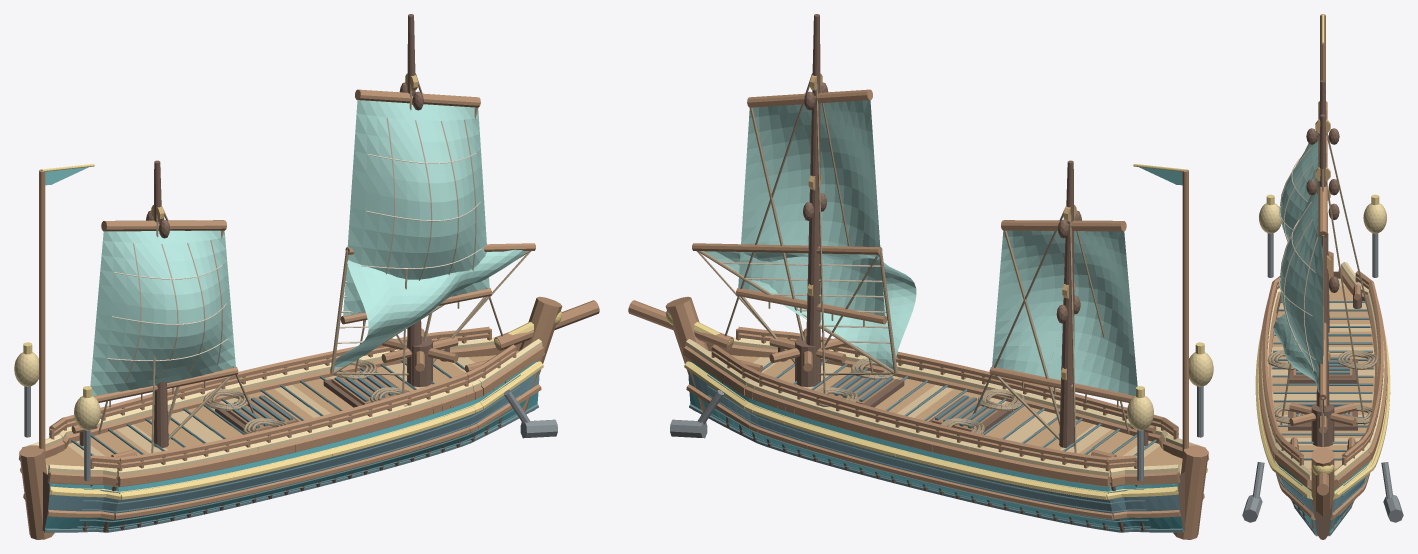
The model's file is mist_seeker-v5.glb.
3 renders of one model, left to right at view 1: azimuth 30°, elevation 25°; view 2: azimuth 150°, elevation 25°; view 3: azimuth 270°, elevation 25°, orthographic. The views are drawn at different scales.
Parts seen in each view (by area): view 1: mist_seeker_sails_mint, mist_seeker_hull_hull2, mist_seeker_railings_hull2, mist_seeker_hull_ghostdark, mist_seeker_hull_pale, mist_seeker_hull_teal, mist_seeker_hull_blue, mist_seeker_hull_wood, mist_seeker_hull_gold, mist_seeker_rigging_hull2, mist_seeker_rigging_sailshade, mist_seeker_masts_darkwood (+11 smaller); view 2: mist_seeker_sails_mint, mist_seeker_hull_hull2, mist_seeker_railings_hull2, mist_seeker_hull_ghostdark, mist_seeker_masts_darkwood, mist_seeker_rigging_hull2, mist_seeker_hull_pale, mist_seeker_hull_teal, mist_seeker_hull_blue, mist_seeker_hull_wood, mist_seeker_hull_gold, mist_seeker_rigging_rope (+12 smaller); view 3: mist_seeker_sails_mint, mist_seeker_hull_hull2, mist_seeker_hull_wood, mist_seeker_railings_hull2, mist_seeker_hull_ghostdark, mist_seeker_masts_darkwood, mist_seeker_fittings_iron, mist_seeker_hull_gold, mist_seeker_hull_decklight, mist_seeker_hull_pale, mist_seeker_fittings_darkwood, mist_seeker_fittings_hull2 (+13 smaller).
Boxes of the visible parts, x1,y1,x2,y2 form: mist_seeker_sails_mint: (90, 100, 526, 396); mist_seeker_hull_hull2: (19, 296, 599, 539); mist_seeker_railings_hull2: (49, 326, 516, 480); mist_seeker_hull_ghostdark: (44, 360, 538, 532); mist_seeker_hull_pale: (22, 337, 542, 476); mist_seeker_hull_teal: (45, 360, 538, 529); mist_seeker_hull_blue: (48, 370, 539, 514); mist_seeker_hull_wood: (45, 355, 496, 467); mist_seeker_hull_gold: (20, 361, 543, 499); mist_seeker_rigging_hull2: (93, 89, 535, 402); mist_seeker_rigging_sailshade: (107, 117, 481, 383); mist_seeker_masts_darkwood: (146, 14, 423, 447); mist_seeker_sails_mint: (704, 100, 1137, 396); mist_seeker_hull_hull2: (628, 296, 1208, 539); mist_seeker_railings_hull2: (711, 326, 1178, 480); mist_seeker_hull_ghostdark: (689, 360, 1183, 532); mist_seeker_masts_darkwood: (803, 14, 1081, 447); mist_seeker_rigging_hull2: (692, 89, 1134, 402); mist_seeker_hull_pale: (685, 337, 1205, 476); mist_seeker_hull_teal: (689, 360, 1182, 529); mist_seeker_hull_blue: (688, 370, 1179, 514); mist_seeker_hull_wood: (731, 355, 1182, 467); mist_seeker_hull_gold: (684, 361, 1207, 499); mist_seeker_rigging_rope: (696, 107, 1118, 439); mist_seeker_sails_mint: (1273, 131, 1322, 392); mist_seeker_hull_hull2: (1258, 251, 1387, 528); mist_seeker_hull_wood: (1271, 286, 1374, 470); mist_seeker_railings_hull2: (1262, 271, 1383, 465); mist_seeker_hull_ghostdark: (1272, 301, 1373, 536); mist_seeker_masts_darkwood: (1306, 80, 1339, 406); mist_seeker_fittings_iron: (1242, 233, 1403, 522); mist_seeker_hull_gold: (1255, 330, 1390, 499); mist_seeker_hull_decklight: (1271, 278, 1374, 468); mist_seeker_hull_pale: (1261, 262, 1384, 480); mist_seeker_fittings_darkwood: (1288, 292, 1361, 450); mist_seeker_fittings_hull2: (1289, 284, 1360, 449).
Size of the model in its own units: 42.28 by 30.41 by 11.71.
